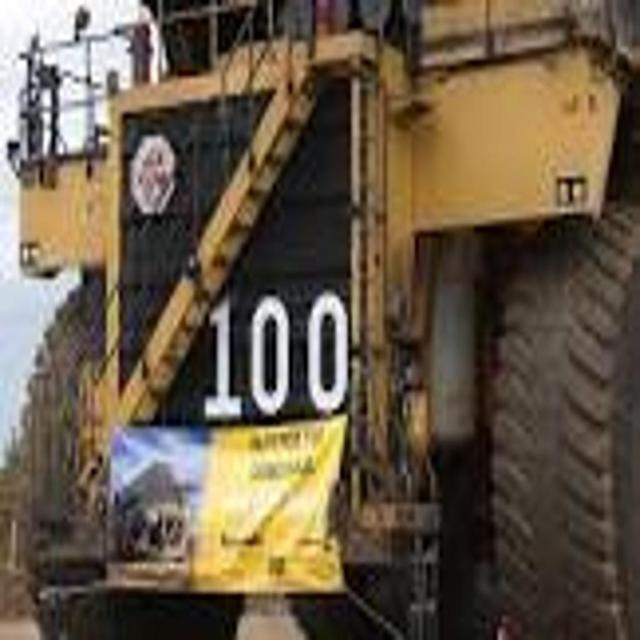dump_truck: (15, 5, 640, 640)
